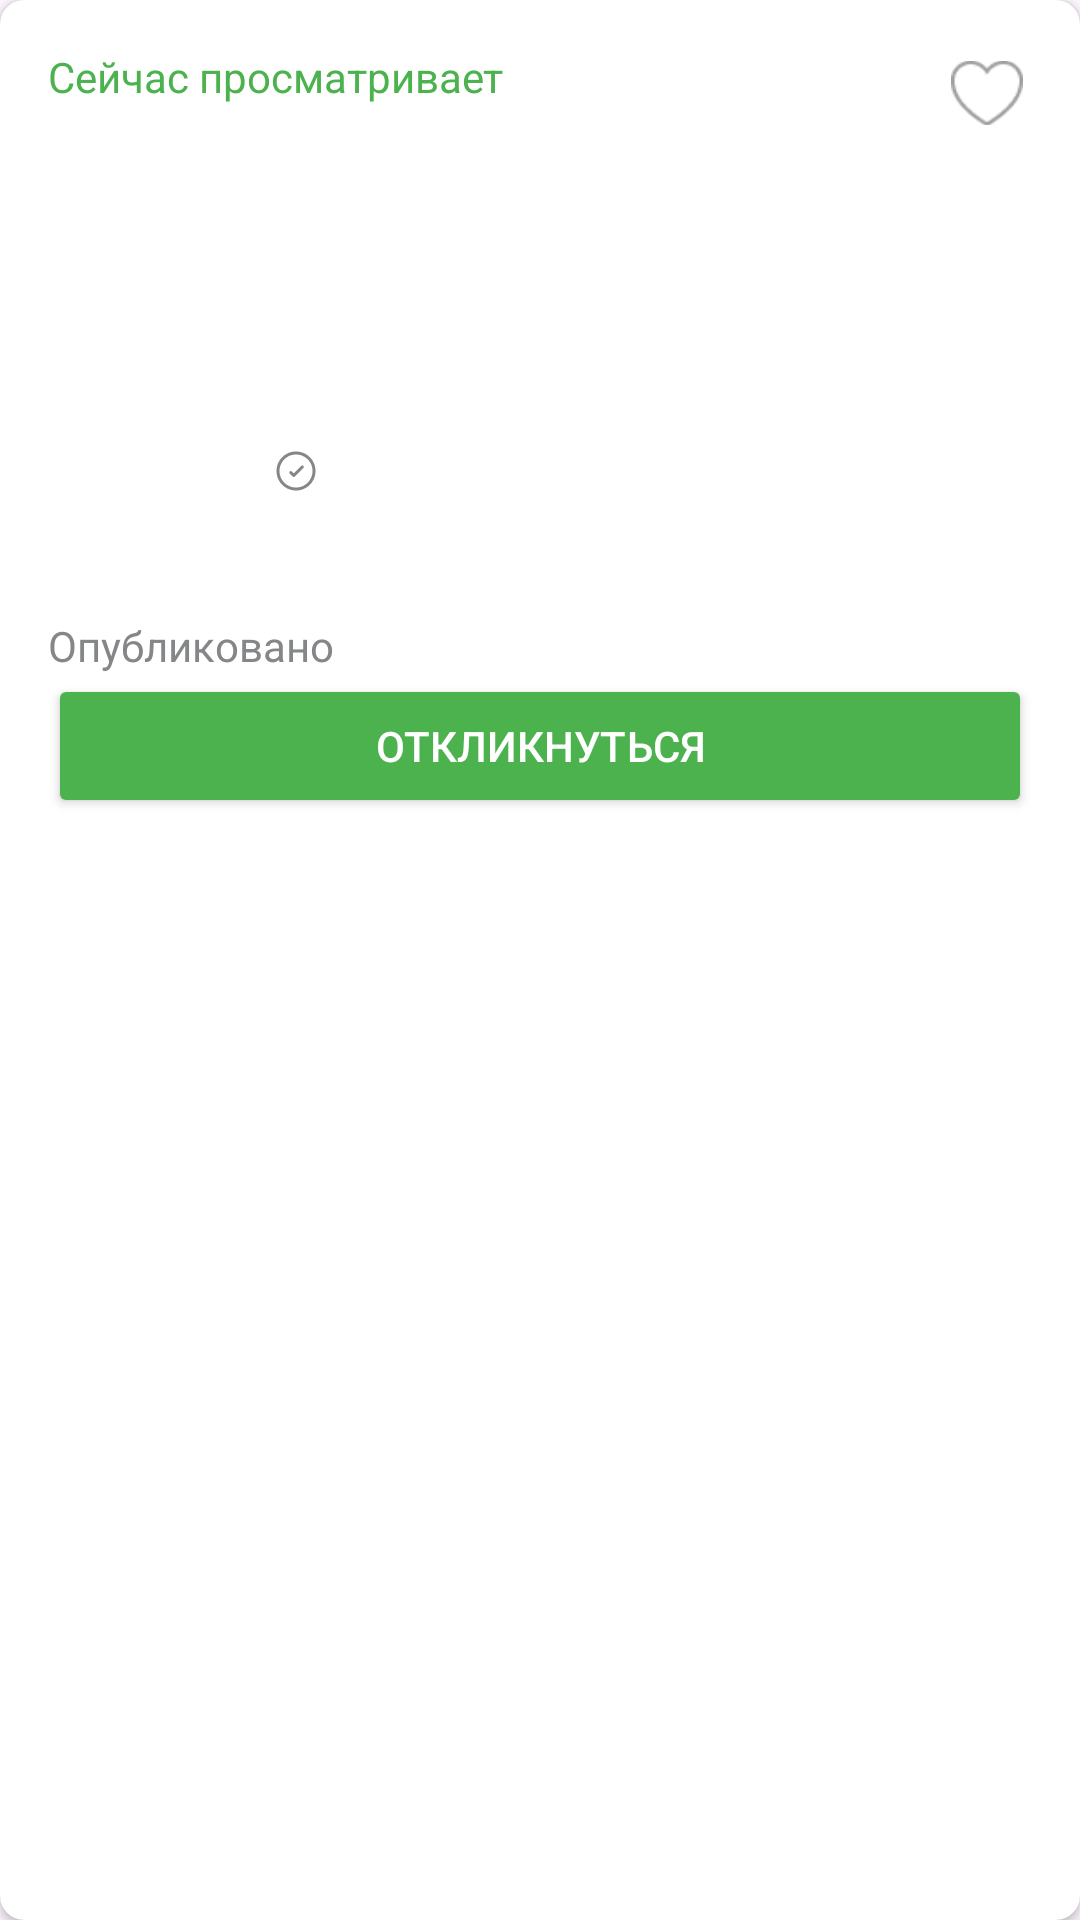

Where icons sit on this 1080×1920 app screen, as (x1, y1, x2, y2):
check company: (276, 451, 316, 491)
heart: (951, 61, 1023, 125)
